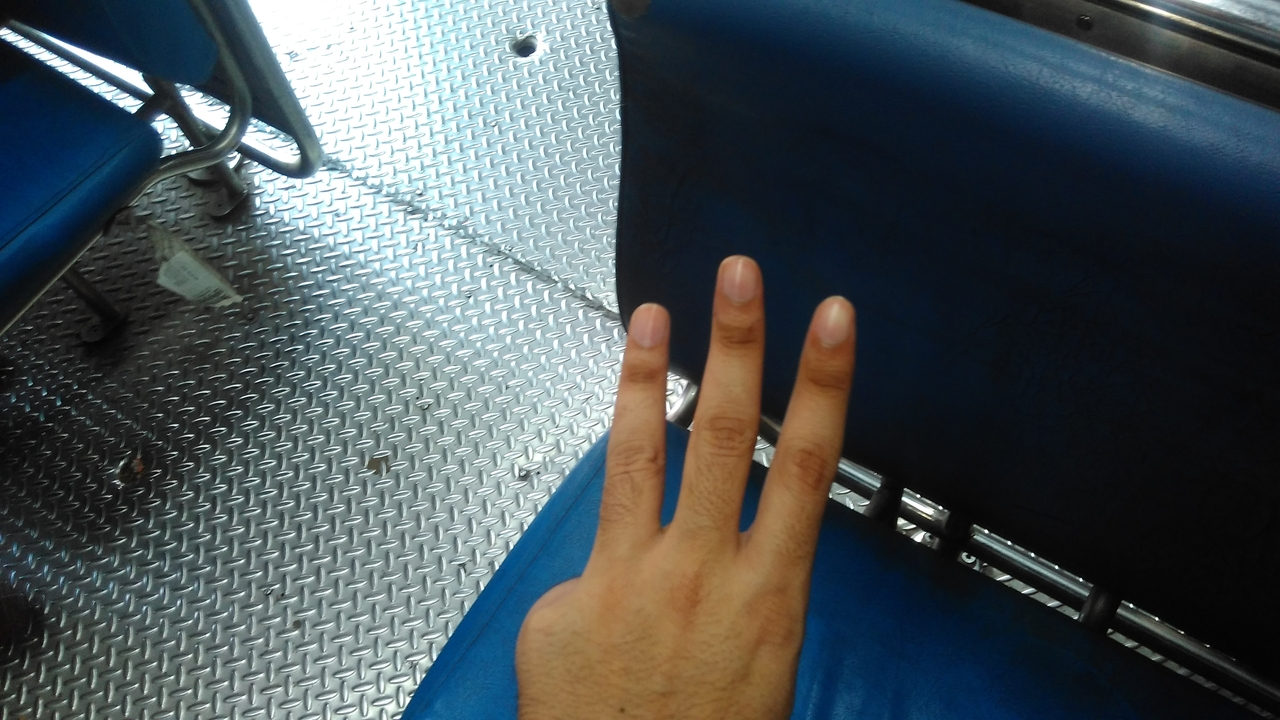fingertip: (800, 290, 864, 356), (708, 248, 774, 310), (622, 298, 676, 350)
